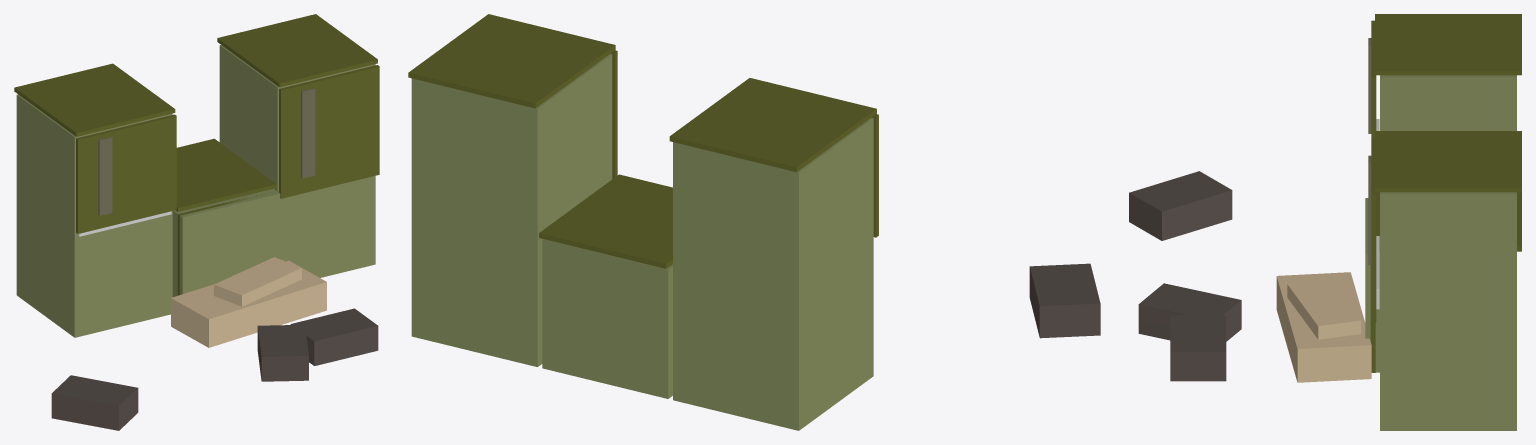
Rendered from SM_HescoCorto3_v4_Red_e1_Danado_LOD1.fbx.
3 views of the same model, side by side, from view 1: azimuth 30°, elevation 25°; view 2: azimuth 150°, elevation 25°; view 3: azimuth 270°, elevation 25° (orthographic). The views are drawn at different scales.
Visible parts, largest first — view 1: SM_hesco_piezas_v97_LOD1; view 2: SM_hesco_piezas_v97_LOD1; view 3: SM_hesco_piezas_v97_LOD1.
Part boxes in pixels (x1,y1,x2,y2): SM_hesco_piezas_v97_LOD1: [14, 14, 379, 430]; SM_hesco_piezas_v97_LOD1: [408, 14, 1100, 430]; SM_hesco_piezas_v97_LOD1: [1129, 14, 1521, 430].
Size of the model in its own units: 4.39 by 2.16 by 3.16.
